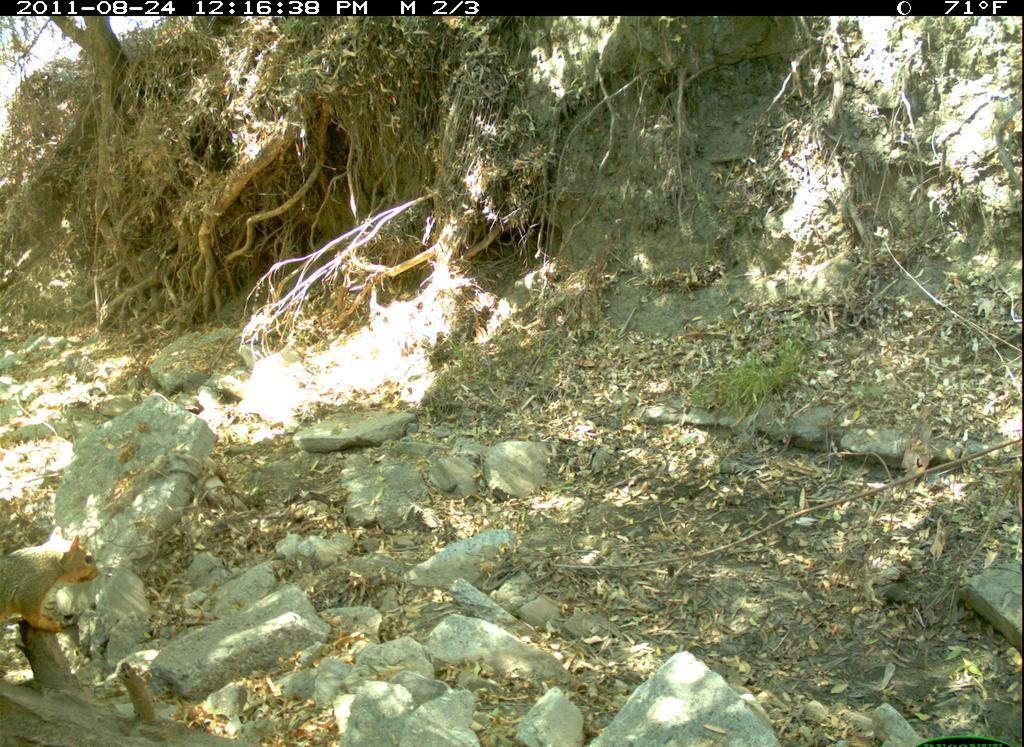squirrel: (1, 518, 131, 641)
